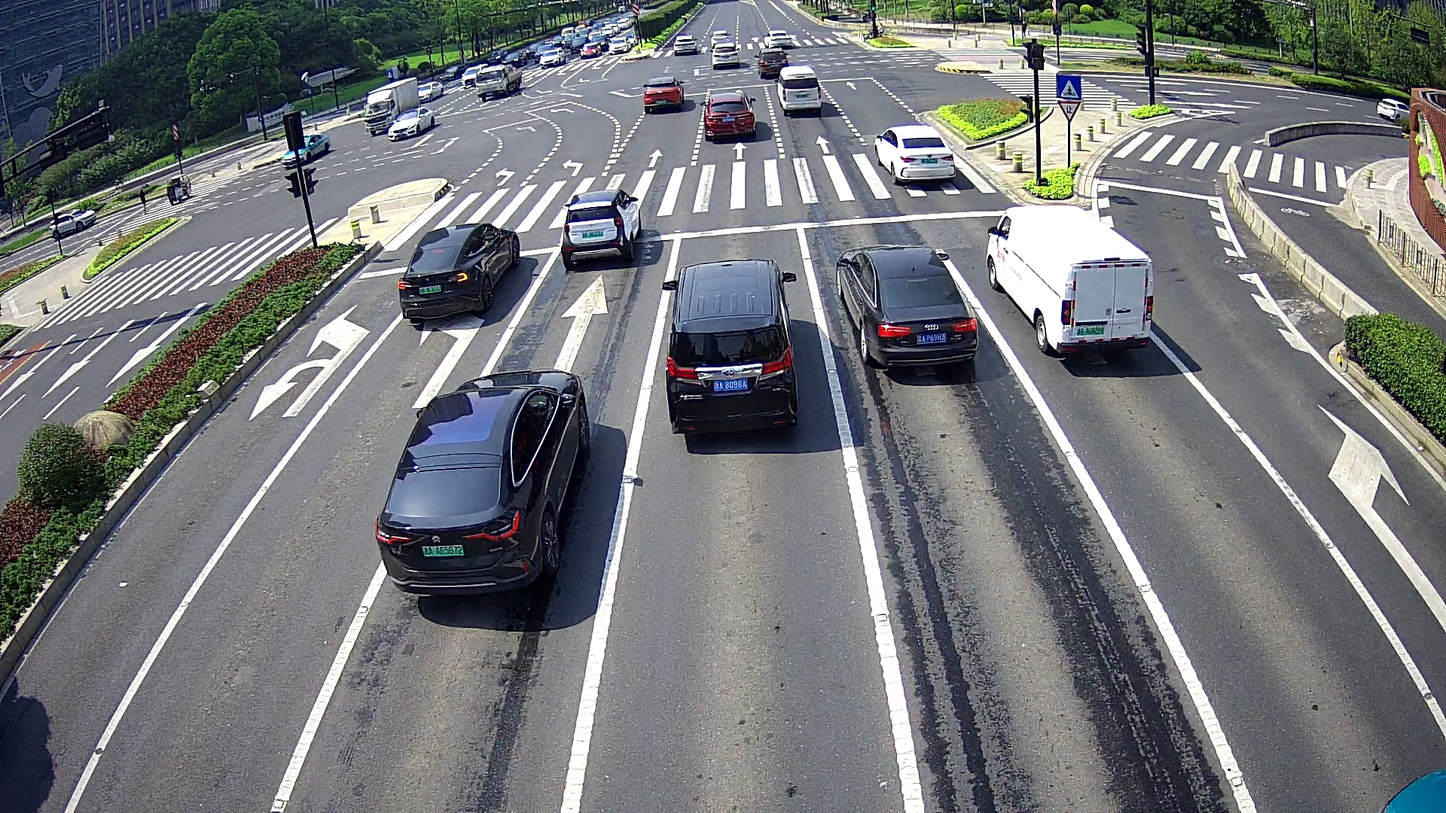vehicle: (372, 366, 586, 603), (983, 202, 1156, 358), (656, 251, 801, 434), (832, 240, 980, 370), (396, 221, 523, 328), (557, 187, 643, 273), (873, 121, 958, 190), (696, 87, 759, 144), (362, 74, 418, 133), (772, 62, 825, 117), (471, 61, 520, 101), (639, 74, 688, 114), (387, 108, 437, 143), (707, 41, 742, 67)
